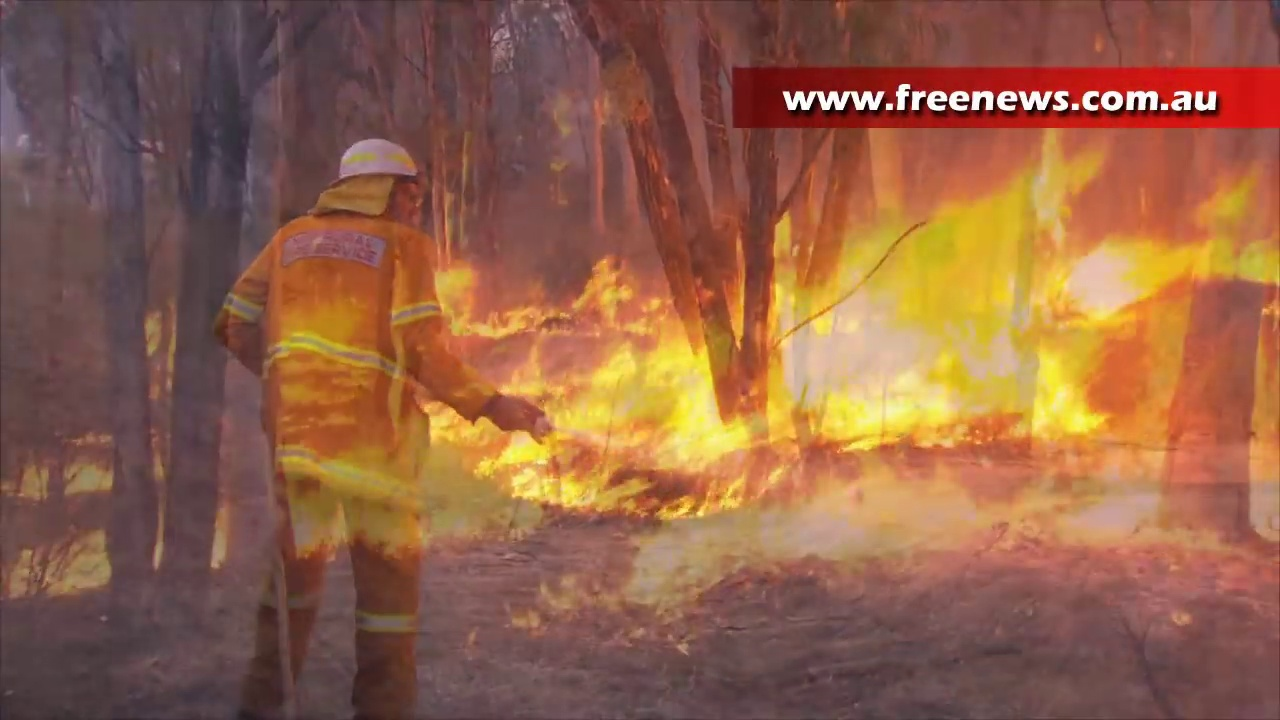fire: (770, 167, 1191, 449), (470, 327, 745, 513), (438, 265, 534, 333), (5, 539, 106, 592), (577, 258, 636, 331), (421, 399, 477, 445), (66, 455, 113, 493), (17, 455, 52, 496)
